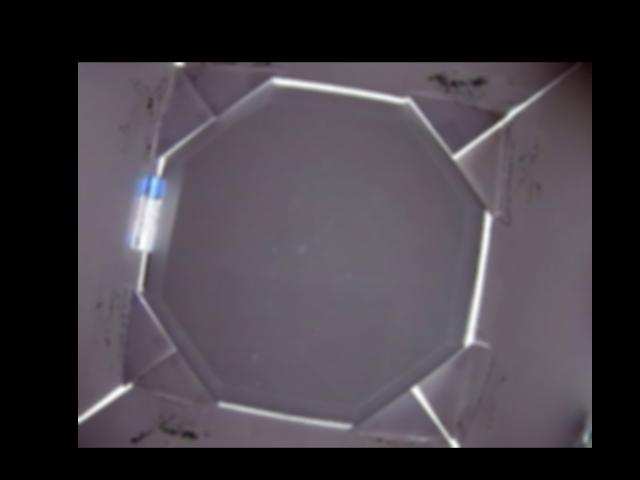Battery: (130, 173, 165, 252)
